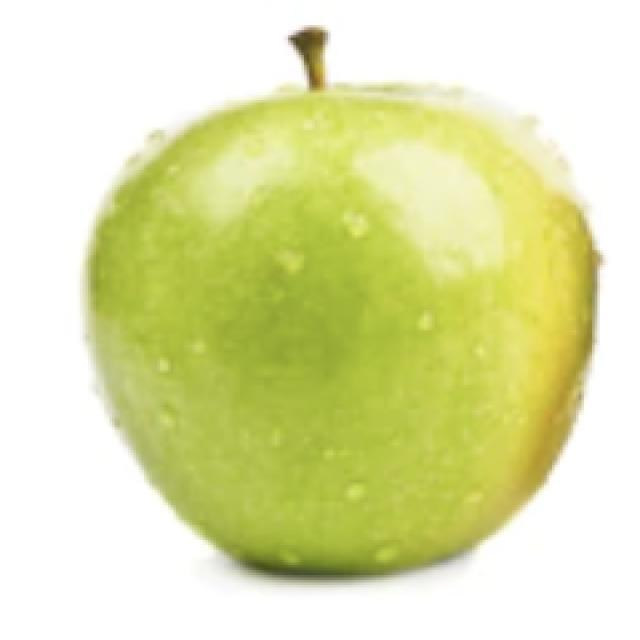Apple: (84, 25, 601, 577)
